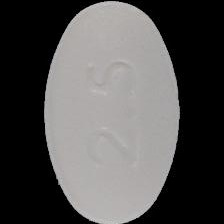0245-0271: (0, 0, 224, 224)
